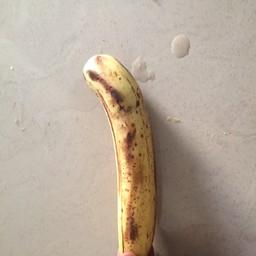Banana Ripe: (65, 40, 193, 256)
